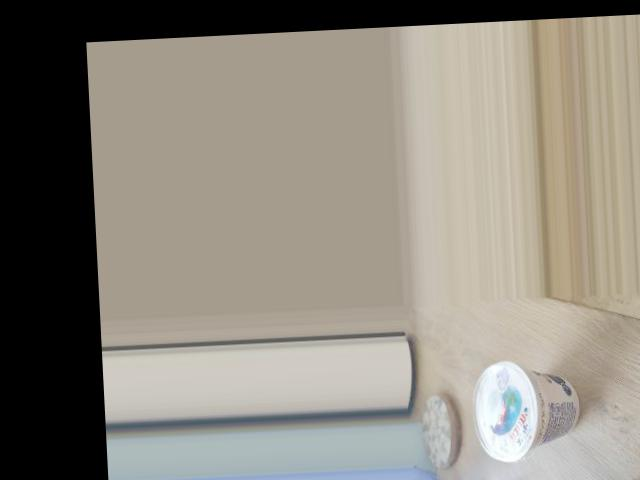cotage: (467, 353, 597, 447)
